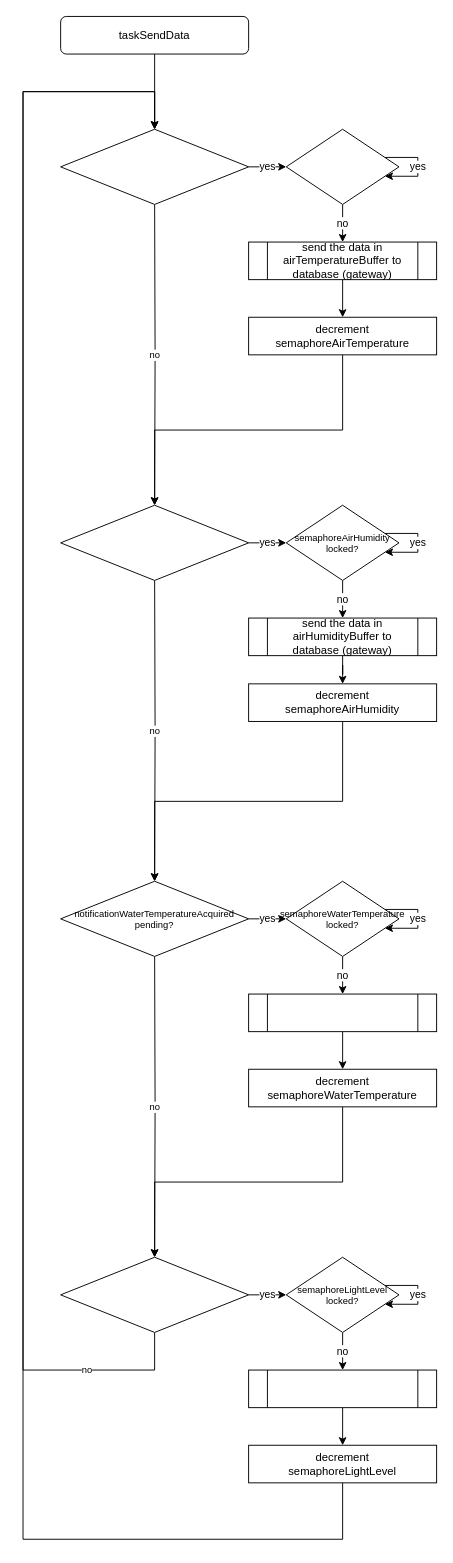
The diagram is 453 pixels wide and 1563 high, and some of its shapes have lost their labels. Each missing label, with the box of its shape:
notificationAirHumidityAcquired pending?: (60, 504, 249, 580)
notificationAirTemperatureAcquired pending?: (60, 128, 249, 204)
notificationLightLevelAcquired pending?: (60, 1256, 249, 1332)
semaphoreAirTemperature locked?: (285, 128, 399, 204)
send the data in lightLevelBuffer to database (gateway): (248, 1369, 437, 1408)
send the data in waterTemperatureBuffer to database (gateway): (248, 993, 437, 1032)
